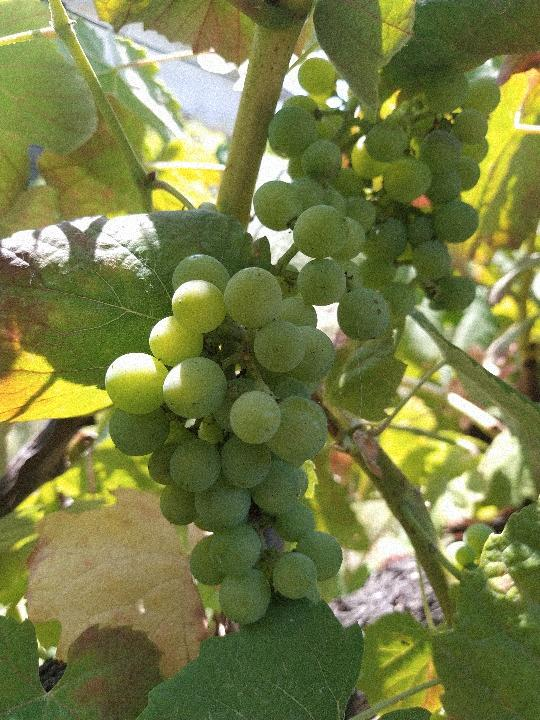grape: (99, 251, 393, 627)
